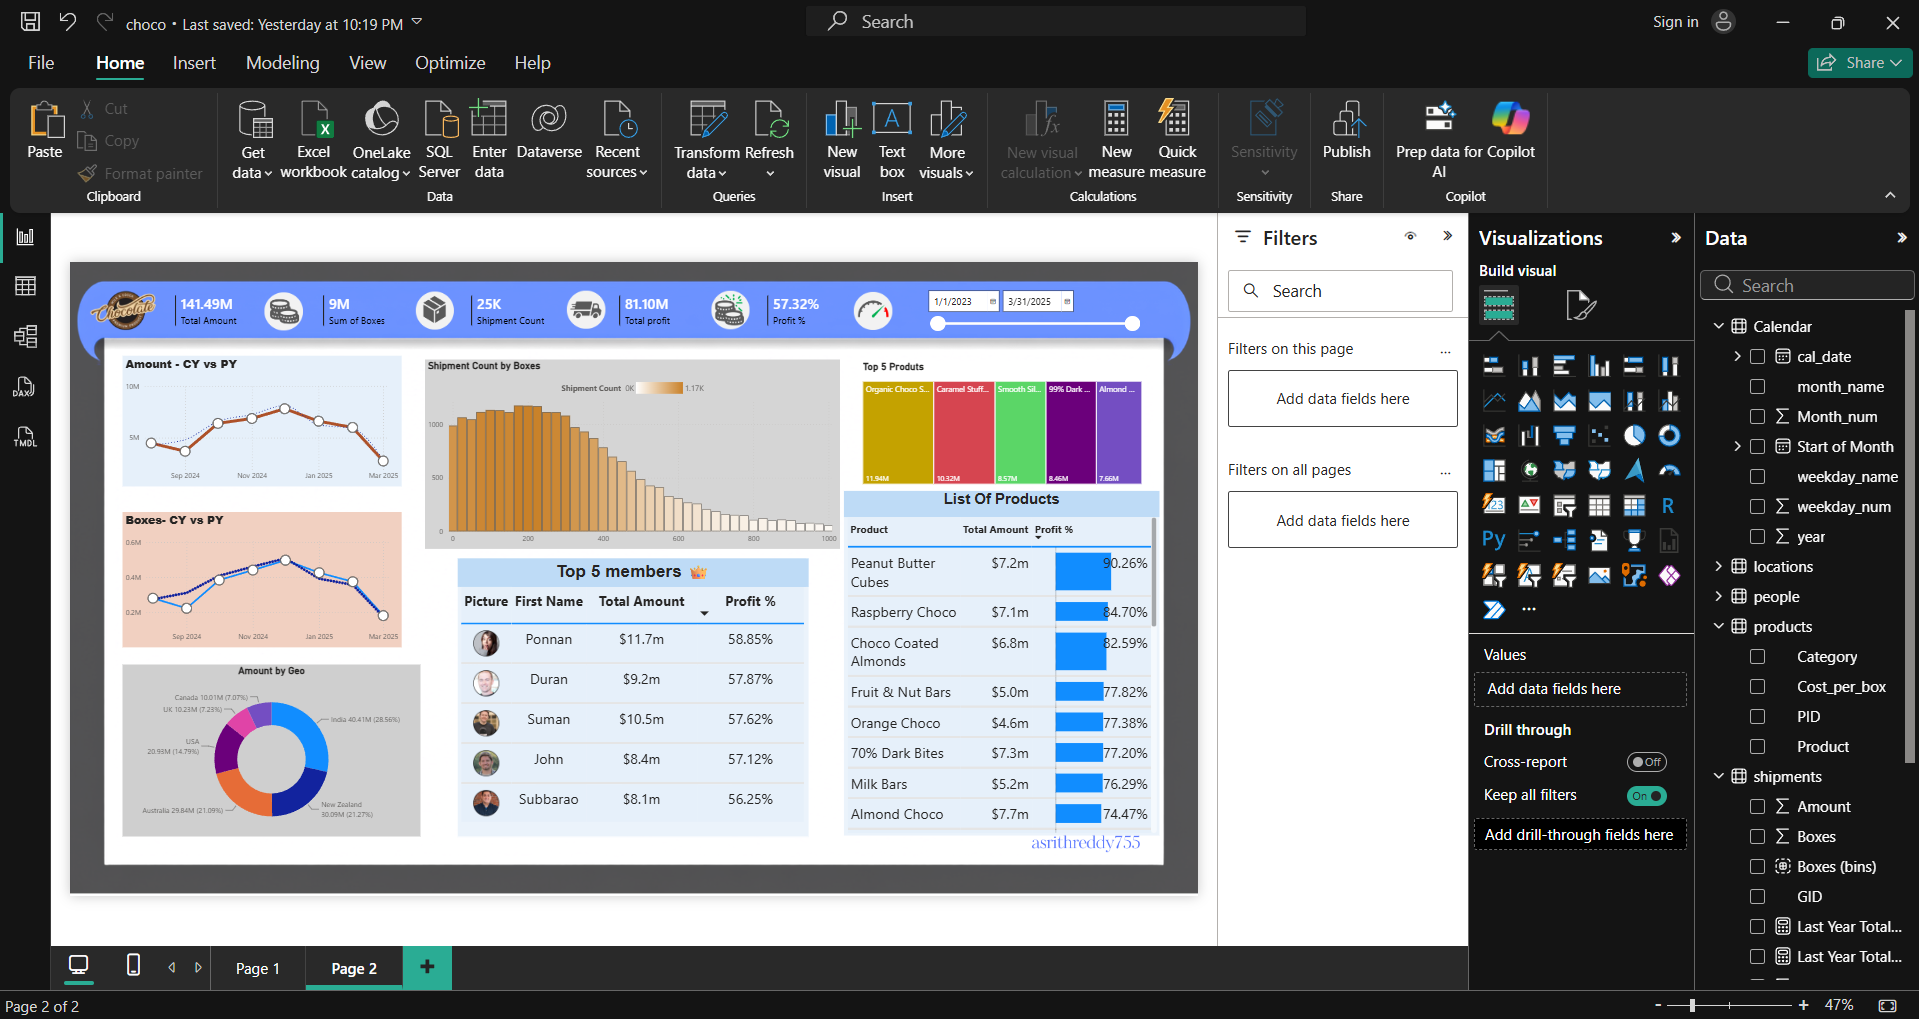

This screenshot's page, from the dashboard's own definition file:
{"tool":"powerbi","page":{"name":"analysis","canvas":[1920,1080],"ordinal":0},"visuals":[{"type":"lineChart","title":"Amount - CY vs PY","fields":{"Y":["shipments.Total Amount","shipments.Last Year Total Amount"],"Category":["Calendar.Start of Month"]},"box":[90,160,475,222.5],"z":0},{"type":"lineChart","title":"Boxes- CY vs PY","fields":{"Category":["Calendar.Start of Month"],"Y":["Sum(shipments.Boxes)","shipments.Last Year Total Boxes"]},"box":[90,425,475,230],"z":1000},{"type":"donutChart","title":"Amount by Geo","fields":{"Category":["locations.Geo"],"Y":["Sum(shipments.Amount)"]},"box":[90,685,507.5,292.5],"z":2000},{"type":"clusteredColumnChart","title":"Shipment Count by Boxes","fields":{"Y":["shipments.Shipment Count"],"Category":["shipments.Boxes (bins)"]},"box":[605,165,706.7,322.2],"z":3000},{"type":"tableEx","title":"Top 5 members 👑","fields":{"Values":["people.Picture","people.First Name","shipments.Total Amount","shipments.Profit %"]},"box":[660,505,597.8,473.3],"z":4000},{"type":"treemap","title":"Top 5 Produts","fields":{"Group":["products.Product"],"Values":["shipments.Total Amount"]},"box":[1345,167.5,485,215],"z":5000},{"type":"tableEx","title":"List Of Products","fields":{"Values":["products.Product","shipments.Total Amount","shipments.Profit %"]},"box":[1317.5,390,537.5,587.5],"z":6000},{"type":"cardVisual","fields":{"Data":["shipments.Total Amount","Sum(shipments.Boxes)","shipments.Shipment Count","shipments.Total profit","shipments.Profit %"]},"box":[161.7,38.3,1287.2,89.4],"z":7000},{"type":"image","box":[344.7,44.7,553.2,76.6],"z":8000},{"type":"image","box":[89.4,27.7,548.9,112.8],"z":8001},{"type":"image","box":[957.4,17,334,129.8],"z":8002},{"type":"image","box":[1176.6,8.5,381,150],"z":8003},{"type":"image","box":[742.6,6.4,272,150],"z":8004},{"type":"slicer","fields":{"Values":["Calendar.cal_date"]},"box":[1448.9,38.3,380.9,89.4],"z":8005}]}

Visuals, with their boxes on the page's 1920x1080 design canvas (x1, y1, x2, y2). These are canvas units, not pixel positions in the 1919x1019 screenshot, which may show the page scaled, cropped or inside an application window:
"Amount - CY vs PY" lineChart: rect(90, 160, 565, 382)
"Boxes- CY vs PY" lineChart: rect(90, 425, 565, 655)
"Amount by Geo" donutChart: rect(90, 685, 598, 978)
"Shipment Count by Boxes" clusteredColumnChart: rect(605, 165, 1312, 487)
"Top 5 members 👑" tableEx: rect(660, 505, 1258, 978)
"Top 5 Produts" treemap: rect(1345, 168, 1830, 382)
"List Of Products" tableEx: rect(1318, 390, 1855, 978)
cardVisual - shipments.Total Amount x Sum(shipments.Boxes): rect(162, 38, 1449, 128)
image: rect(345, 45, 898, 121)
image: rect(89, 28, 638, 140)
image: rect(957, 17, 1291, 147)
image: rect(1177, 8, 1558, 158)
image: rect(743, 6, 1015, 156)
slicer - Calendar.cal_date: rect(1449, 38, 1830, 128)
